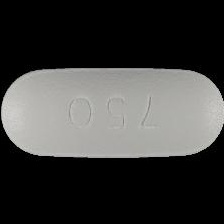50458-930: (0, 0, 224, 224)
